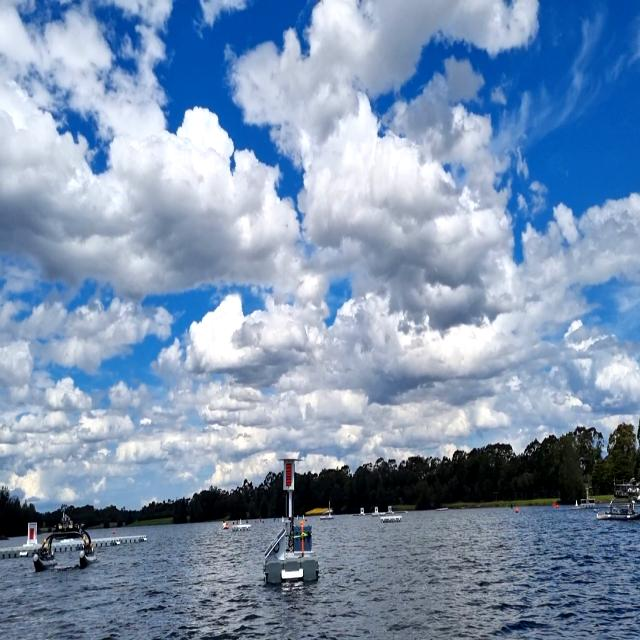led: (284, 461, 292, 488)
